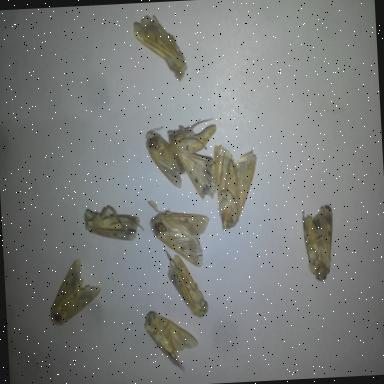abw: (166, 114, 226, 204), (42, 250, 108, 330), (208, 140, 264, 234), (128, 8, 191, 90), (147, 208, 216, 274), (140, 308, 202, 374), (162, 245, 210, 325), (296, 202, 340, 287), (139, 122, 189, 194), (78, 202, 148, 250)
